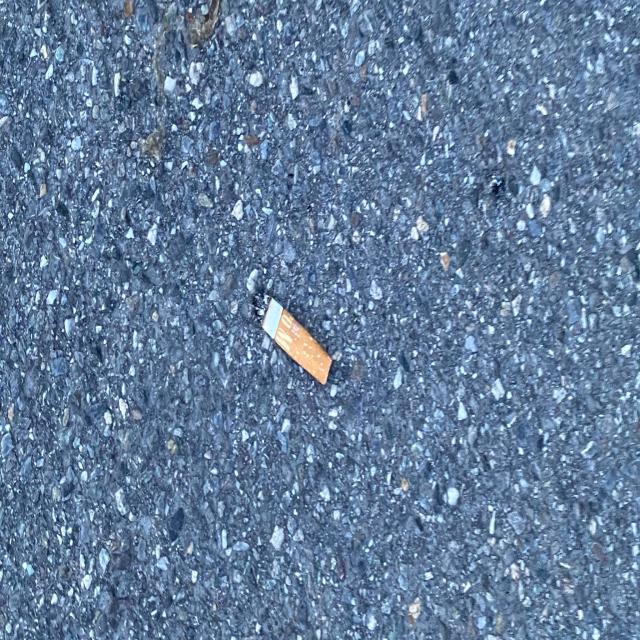other waste: (252, 291, 332, 387)
